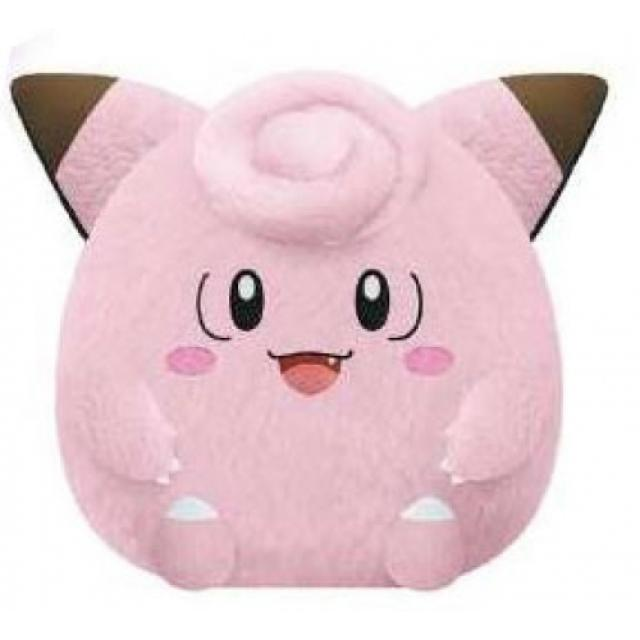Clefairy: (12, 49, 608, 599)
